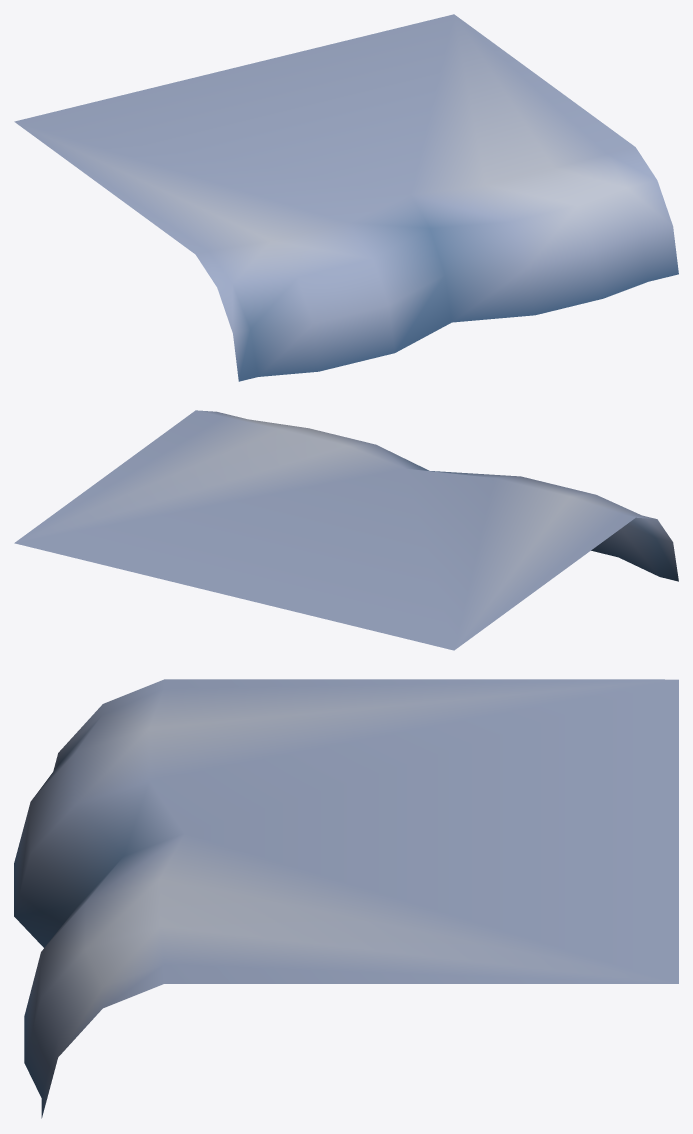
Rendered from Surface_PlatformShirt00.fbx.
3 renders of one model, top to bottom at view 1: azimuth 30°, elevation 25°; view 2: azimuth 150°, elevation 25°; view 3: azimuth 270°, elevation 25°, orthographic. The views are drawn at different scales.
Parts seen in each view (by area): view 1: Surface_PlatformShirt00; view 2: Surface_PlatformShirt00; view 3: Surface_PlatformShirt00.
Boxes of the visible parts, x1,y1,x2,y2 form: Surface_PlatformShirt00: [14, 14, 678, 381]; Surface_PlatformShirt00: [14, 410, 678, 650]; Surface_PlatformShirt00: [14, 679, 678, 1118].
Bounding box in the file's own units: 2000 × 415 × 1846.
